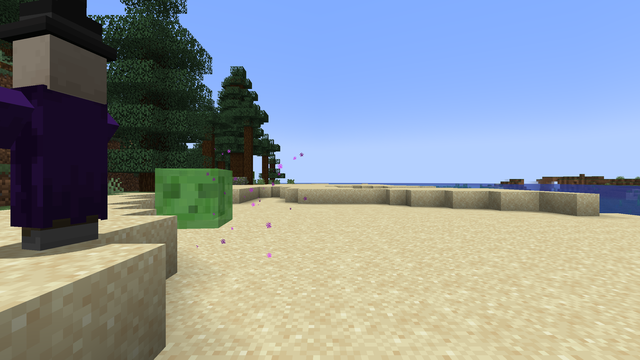slimes: (151, 166, 234, 229)
sorcieres: (10, 24, 117, 251)
